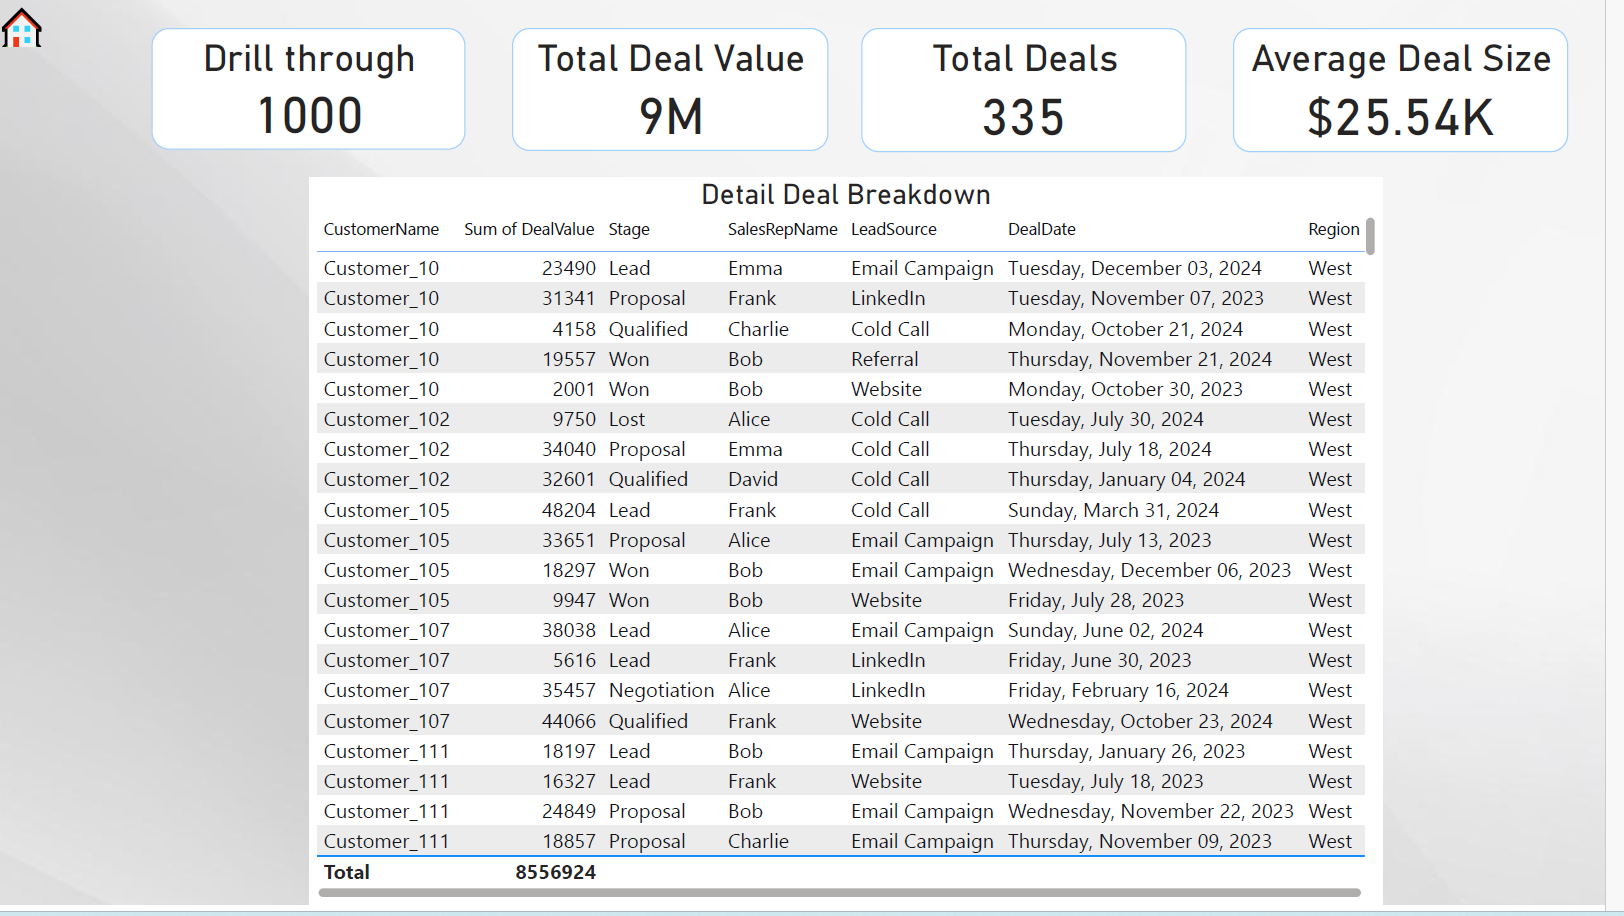

This screenshot's page, from the dashboard's own definition file:
{"tool":"powerbi","page":{"name":"Deal Details ","canvas":[1280,720],"ordinal":6},"visuals":[{"type":"tableEx","title":"Detail Deal Breakdown ","fields":{"Values":["Dim_Customer.CustomerName","Fact_Deals.DealValue","Fact_Deals.Stage","Dim_SalesRep.SalesRepName","Dim_LeadSource.LeadSource","Fact_Deals.DealDate","Dim_Customer.Region"]},"box":[248.5,141.2,854.2,579.1],"z":0},{"type":"card","title":"Total Deals","fields":{"Values":["Fact_Deals.Total Deals"]},"box":[687.7,21.7,259.4,98.9],"z":1000},{"type":"card","title":"Average Deal Size","fields":{"Values":["Fact_Deals.Avg Deal Size"]},"box":[984.5,21.7,266.6,98.9],"z":2000},{"type":"card","title":"Total Deal Value","fields":{"Values":["Fact_Deals.DealValue"]},"box":[410.2,21.7,252.1,97.7],"z":3000},{"type":"card","title":"Drill through ","fields":{"Values":["Measures (2).Drillthrough Deals"]},"box":[123.1,21.7,249.7,96.5],"z":4000},{"type":"pageNavigator","title":"🏠","box":[0,0,51.9,37.4],"z":5000}]}

Visuals, with their boxes in screenshot pixels (x1, y1, x2, y2), scaled from the page's 1280x720 canvas onto the 1624x916 screenshot:
"Detail Deal Breakdown " tableEx: locate(315, 180, 1399, 915)
"Total Deals" card: locate(873, 28, 1202, 153)
"Average Deal Size" card: locate(1249, 28, 1587, 153)
"Total Deal Value" card: locate(520, 28, 840, 152)
"Drill through " card: locate(156, 28, 473, 150)
"🏠" pageNavigator: locate(0, 0, 66, 48)
